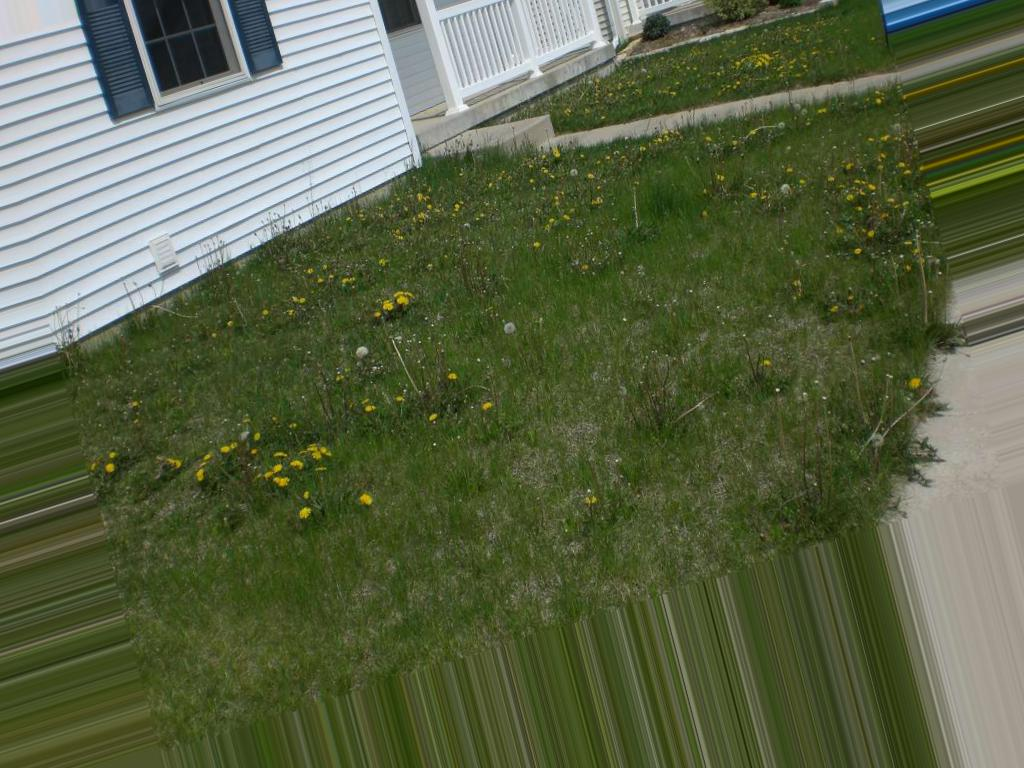patch: (520, 407, 633, 513), (708, 324, 835, 395)
